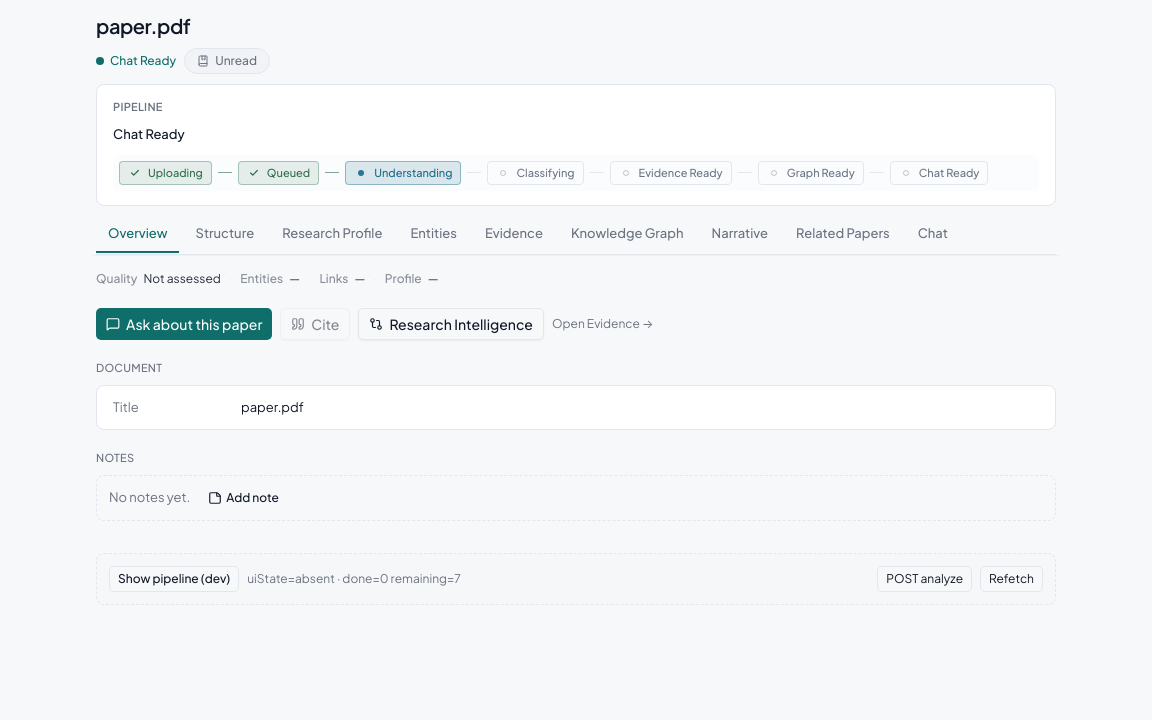
Paper Workspace shell (M4) › shows Entities tab empty state when phase is missing
The image size is (1152, 720).
Expected: the heading "paper.pdf" is shown, [96,13,190,38]
Click the tab "Entities" at (434, 234), box [398,216,469,253]
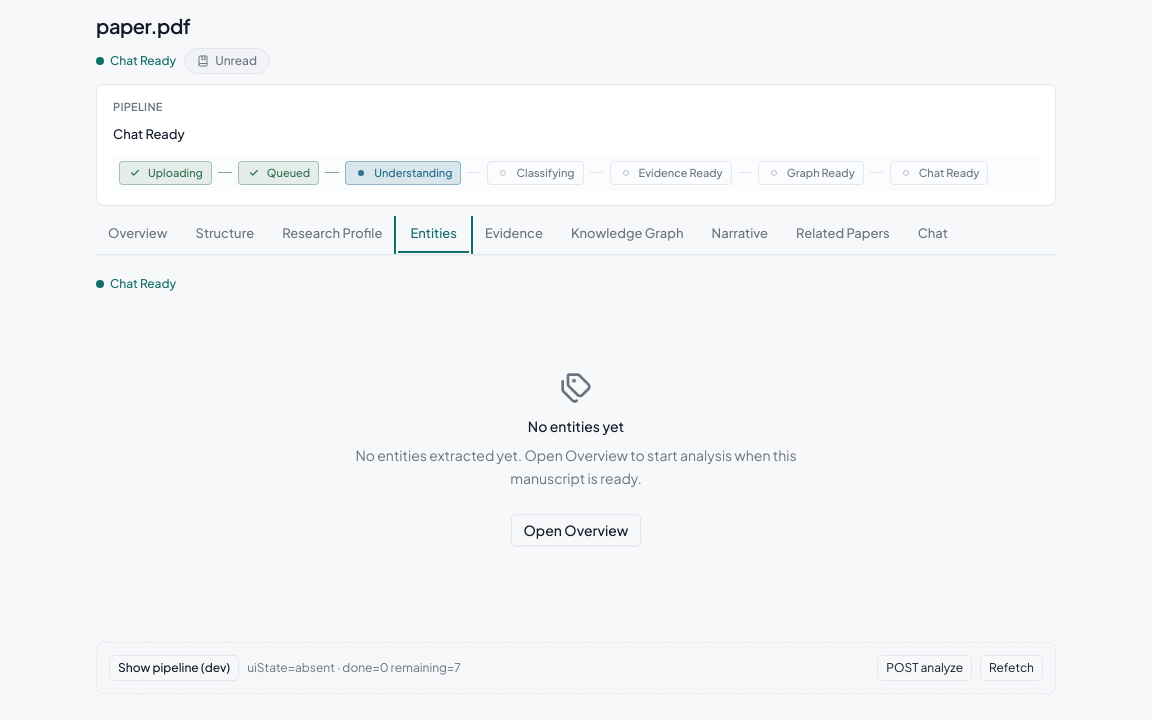
Expected: the text "No entities yet" is shown, [528,416,624,436]
